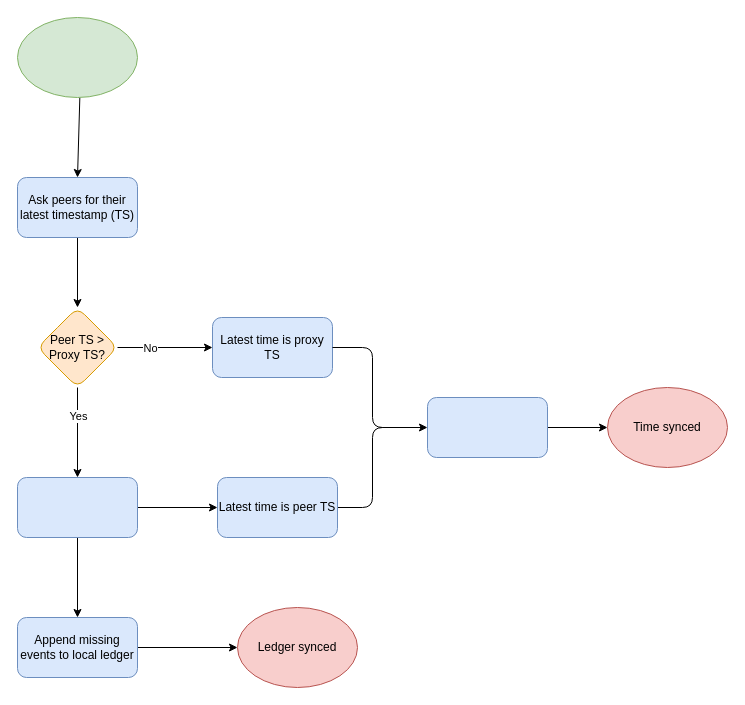
Some shapes in this 745 by 705 pixel diagram are drawn without their labels. Each missing label, with the centre of its shape:
"Ask peer for events in range: (proxyTS, peerTS]" goes at point 77,507.
"Proxy startup" goes at point 77,57.
"Set local TS" goes at point 487,427.
